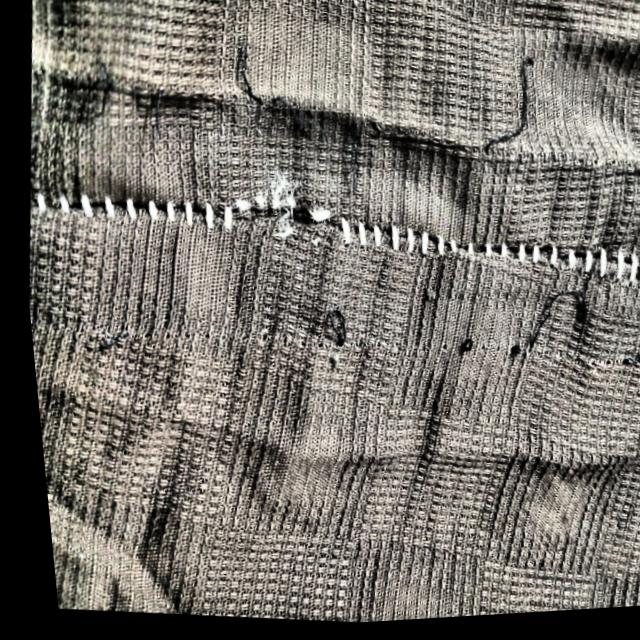Stitch: (192, 156, 354, 274), (479, 279, 600, 388), (466, 37, 553, 174), (207, 42, 294, 136), (294, 306, 366, 377)
